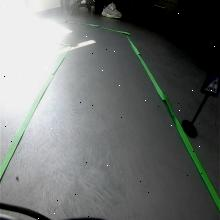crosswalk: (199, 68, 220, 96)
